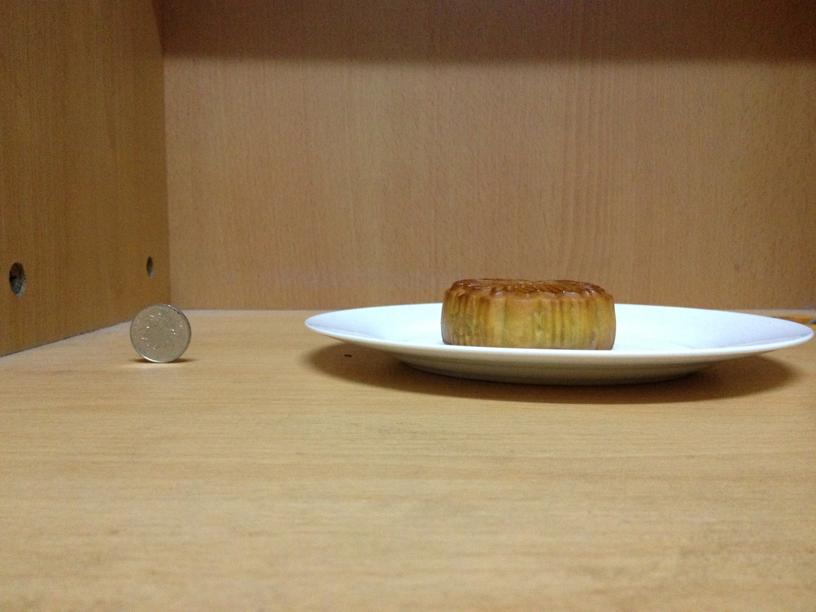coin: (128, 302, 191, 362)
mooncake: (439, 276, 616, 349)
